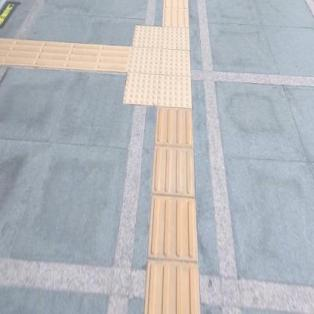Podoctatil: (143, 108, 204, 313), (117, 7, 205, 132), (0, 34, 127, 74), (165, 0, 191, 25)
